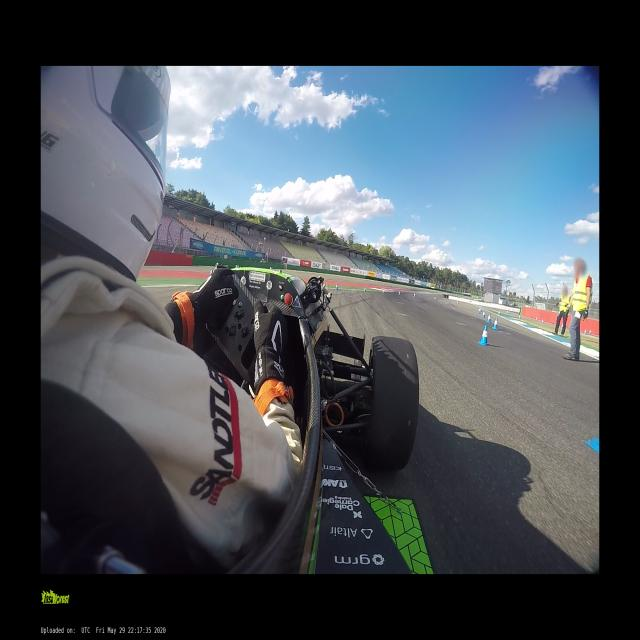blue_cone: (478, 325, 489, 346), (492, 318, 498, 330), (486, 313, 491, 323), (482, 310, 485, 318), (335, 283, 338, 290), (478, 307, 481, 313), (584, 328, 587, 334), (398, 290, 401, 295), (498, 310, 501, 315), (364, 286, 366, 292), (414, 292, 416, 297), (382, 289, 384, 294), (589, 329, 591, 334), (536, 317, 538, 321), (434, 296, 436, 300), (542, 318, 543, 324), (481, 306, 482, 311), (519, 314, 520, 319), (457, 300, 458, 304), (507, 310, 508, 314)
